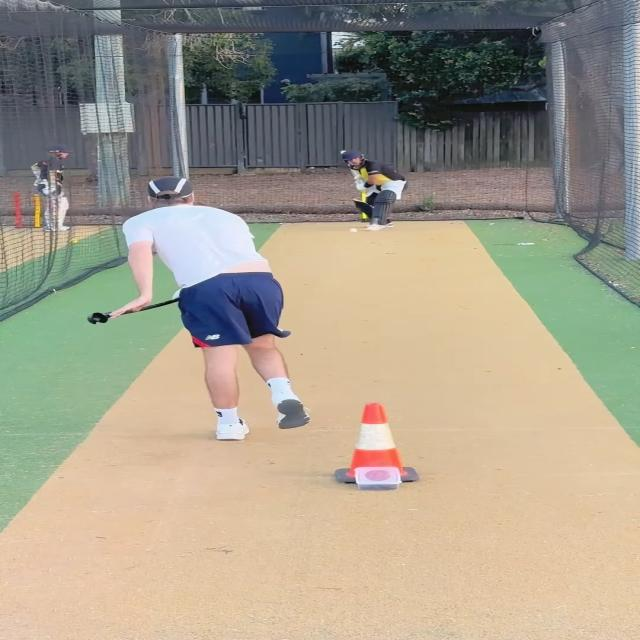Cricket ball: (348, 226, 360, 234)
